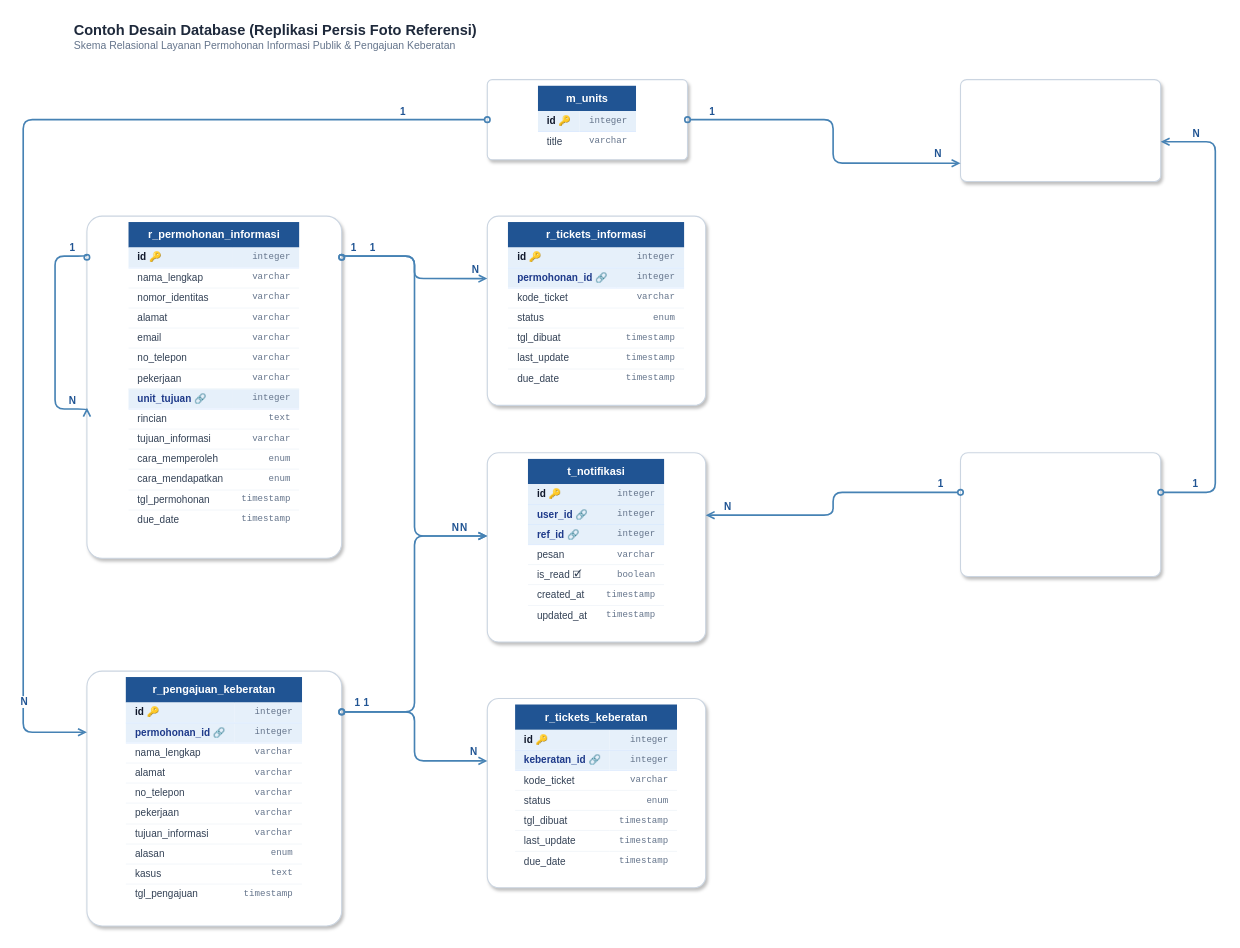
The diagram is 1240 pixels wide and 948 high, and some of its shapes have lost their labels. The centre of each missing label's shape, as x and y in pixels:
r_user_unit id 🔑 integer id_user 🔗 integer id_unit 🔗 integer: point (1061, 131)
users id 🔑 integer nama varchar username varchar password varchar: point (1061, 515)
